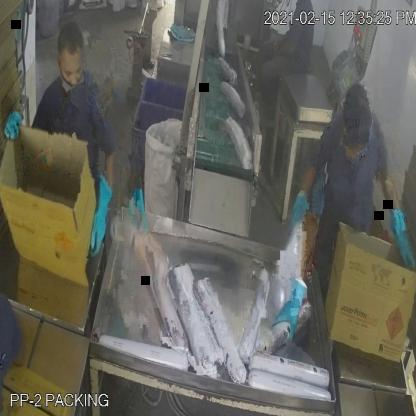glove: (78, 166, 114, 266), (266, 275, 310, 348), (385, 204, 416, 274)
